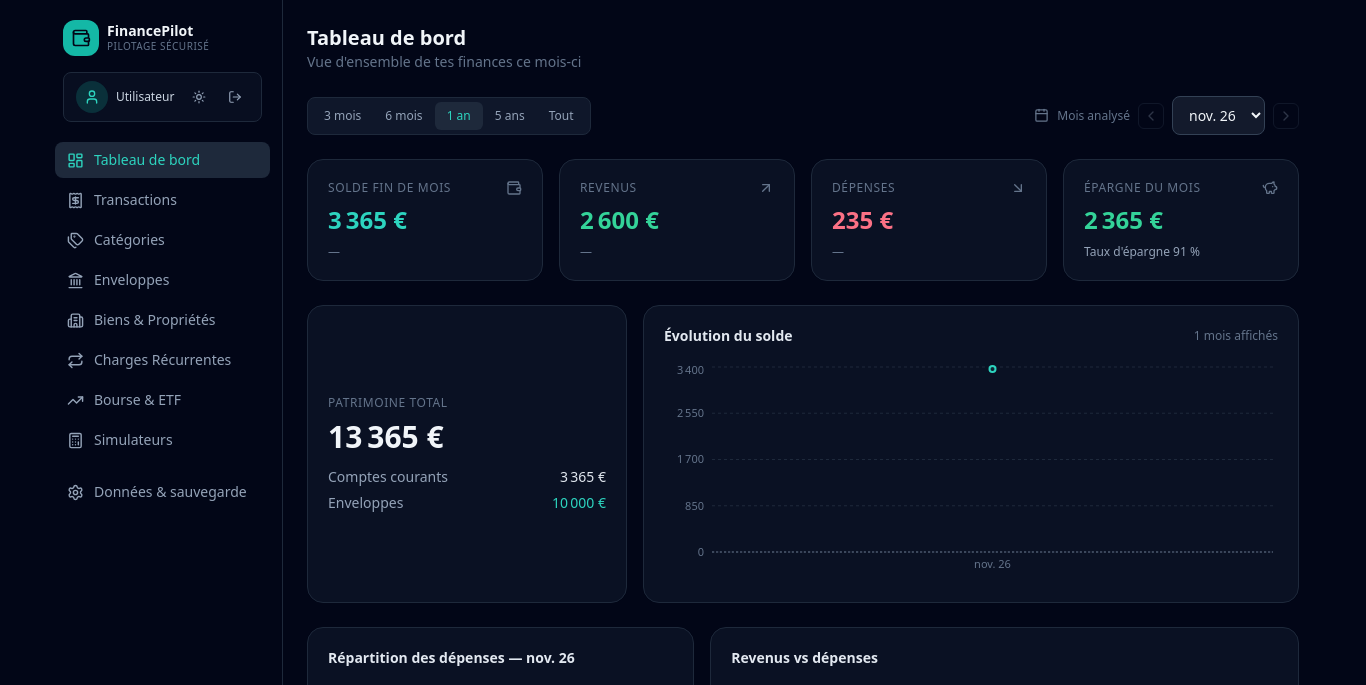
Scenario: chargement et données › la modale « Données » ne propose plus d'actions non persistées
Click the button "Données & sauvegarde". click: coordinates (162, 492)
box: [55, 474, 270, 510]
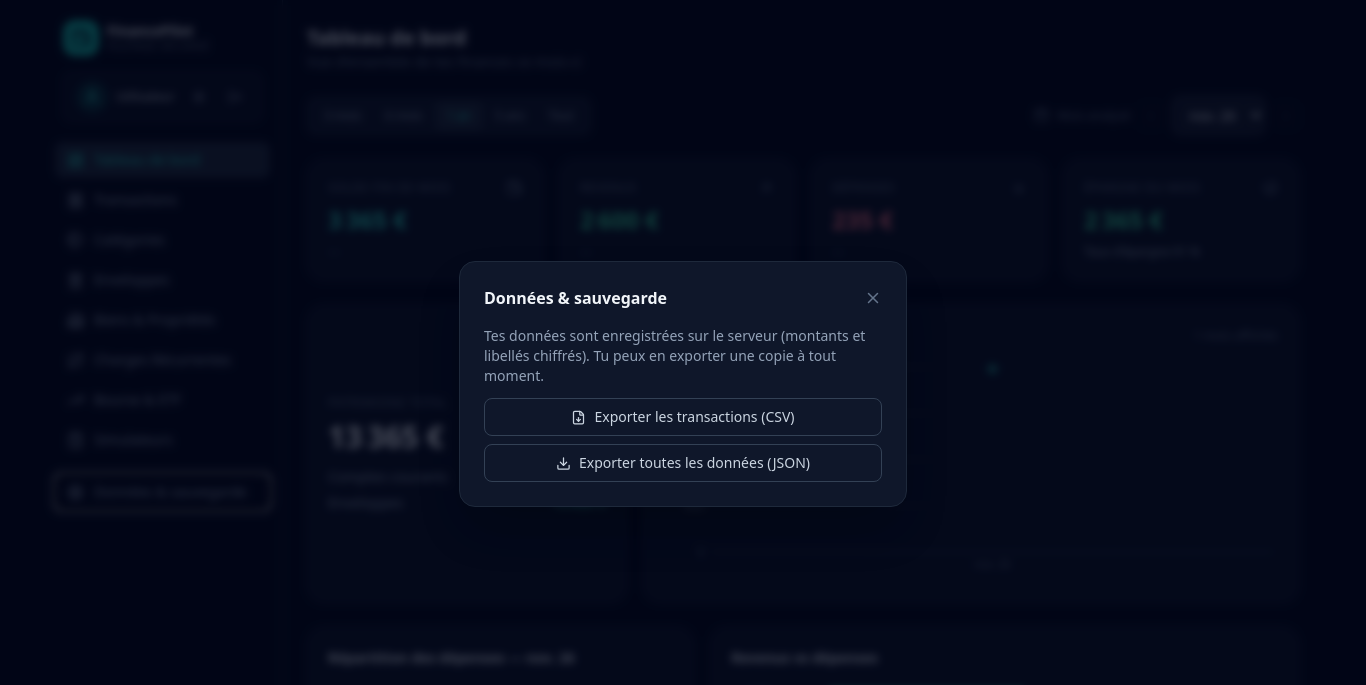
Result: the text "enregistrées sur le serveur" is shown at [484, 326, 865, 385]
